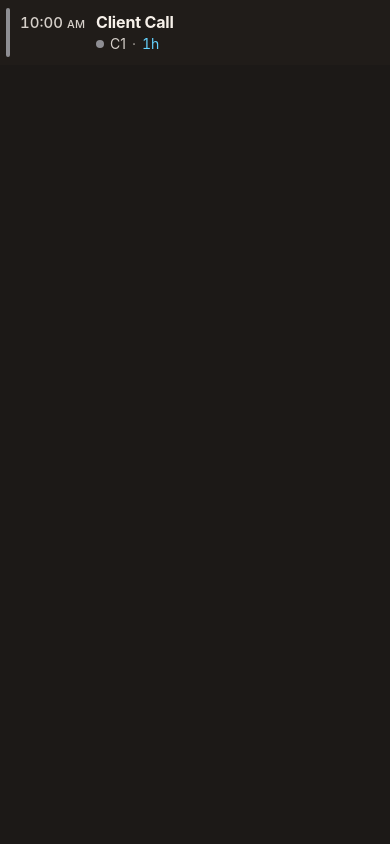
Scenario: DayRow quick actions › a context menu opens the menu and not the editor, and closing it closes the rail
Right-click the button "10:00 AM Client Call C1 · 1h" at coordinates (135, 22), box x1=0 y1=0 x2=389 y2=65
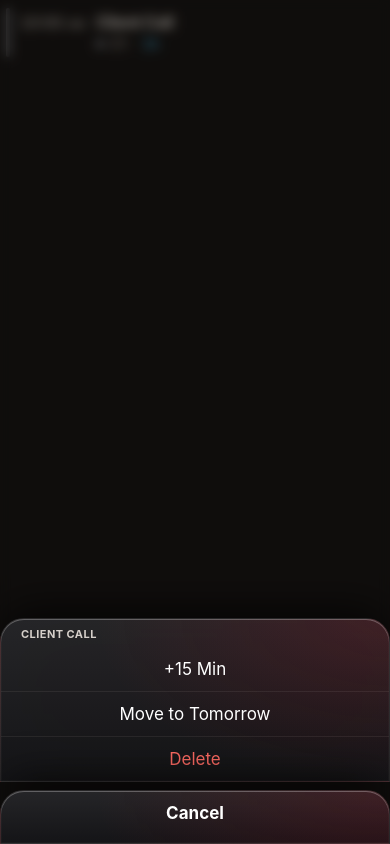
Click the button "Cancel" at coordinates (195, 813), box x1=1 y1=791 x2=389 y2=835
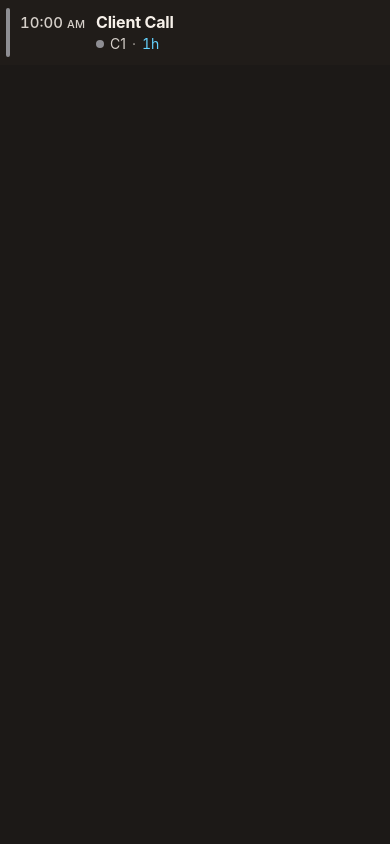
Expected: the button "Cancel" is gone
